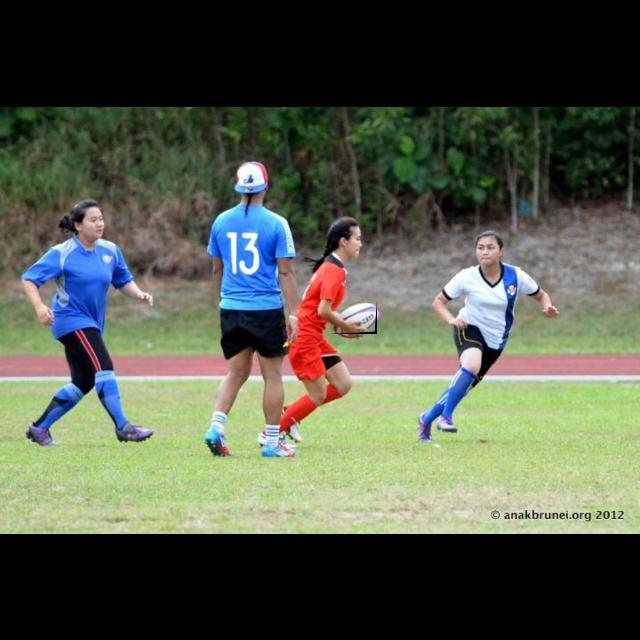Football: (331, 302, 377, 334)
